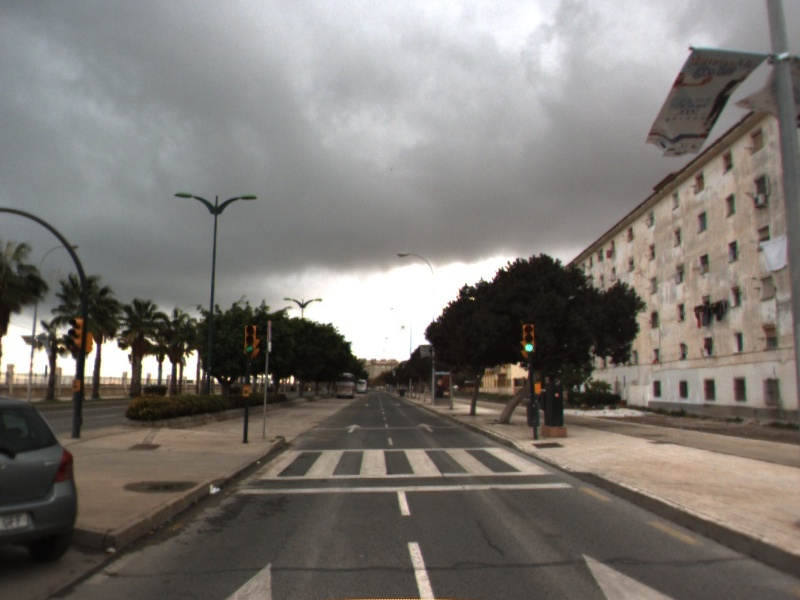STRAIGHT: (343, 422, 365, 435), (416, 421, 437, 434)
